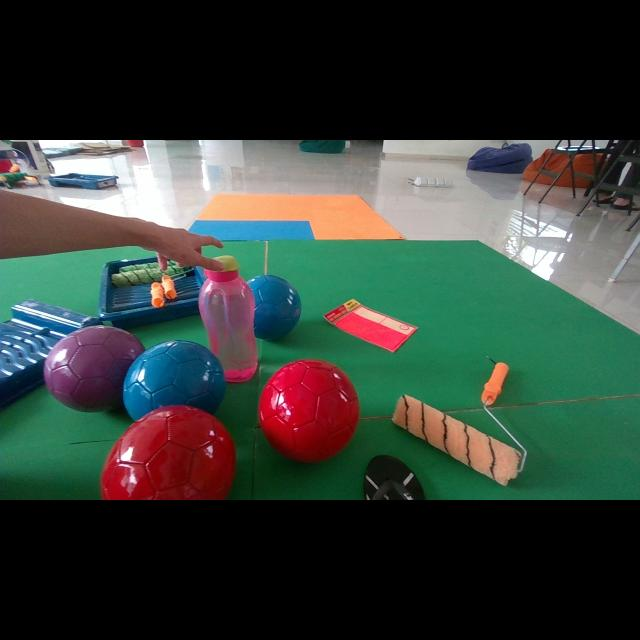B: (124, 340, 225, 420), (248, 275, 301, 339)
P: (45, 325, 145, 412)
R: (101, 405, 235, 499), (259, 359, 360, 462)
